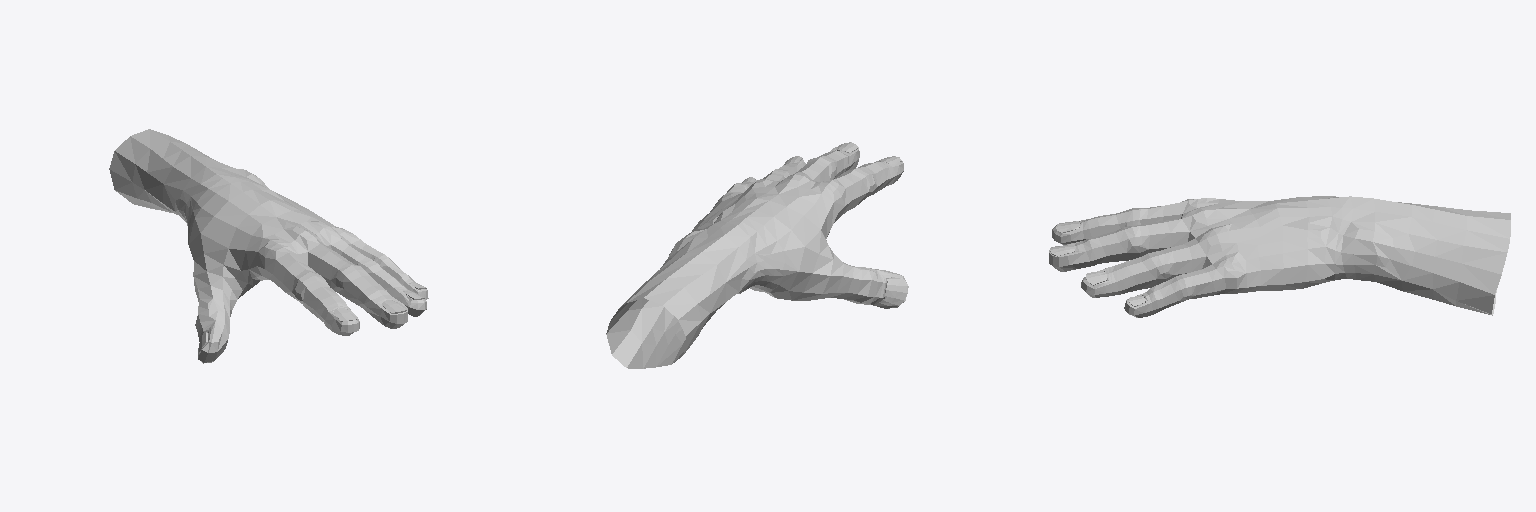
File: 4_6_HandPolygonalLeftBack.obj
3 views of the same model, side by side, from view 1: azimuth 30°, elevation 25°; view 2: azimuth 150°, elevation 25°; view 3: azimuth 270°, elevation 25° (orthographic).
Parts seen in each view (by area): view 1: hand1_polySurface891.004; view 2: hand1_polySurface891.004; view 3: hand1_polySurface891.004.
Boxes of the visible parts, box(x1,y1,x2,y2) form: hand1_polySurface891.004: box(109, 129, 428, 363); hand1_polySurface891.004: box(606, 142, 908, 368); hand1_polySurface891.004: box(1049, 196, 1510, 317).
Size of the model in its own units: 0.0875 by 0.0487 by 0.1779.